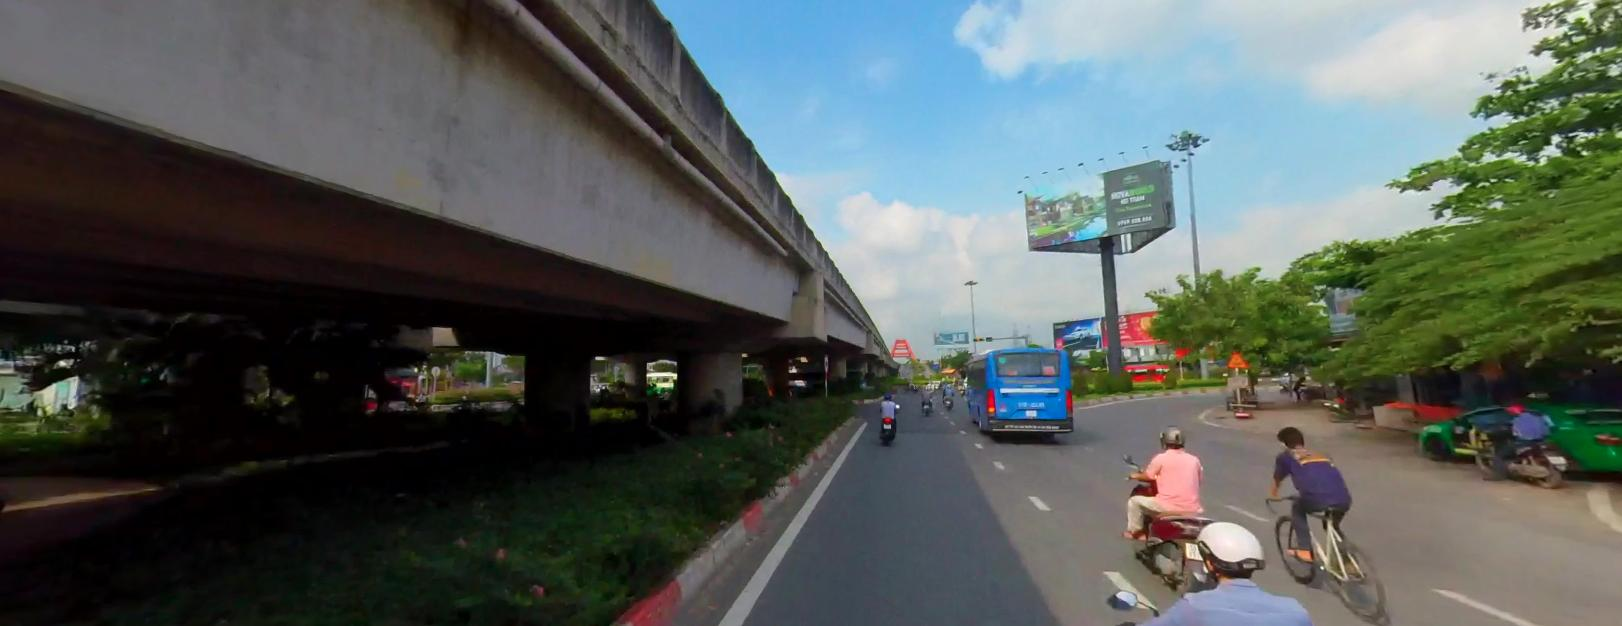Nguy hiem: (1226, 348, 1250, 367), (1226, 348, 1248, 366), (1226, 348, 1249, 365)
